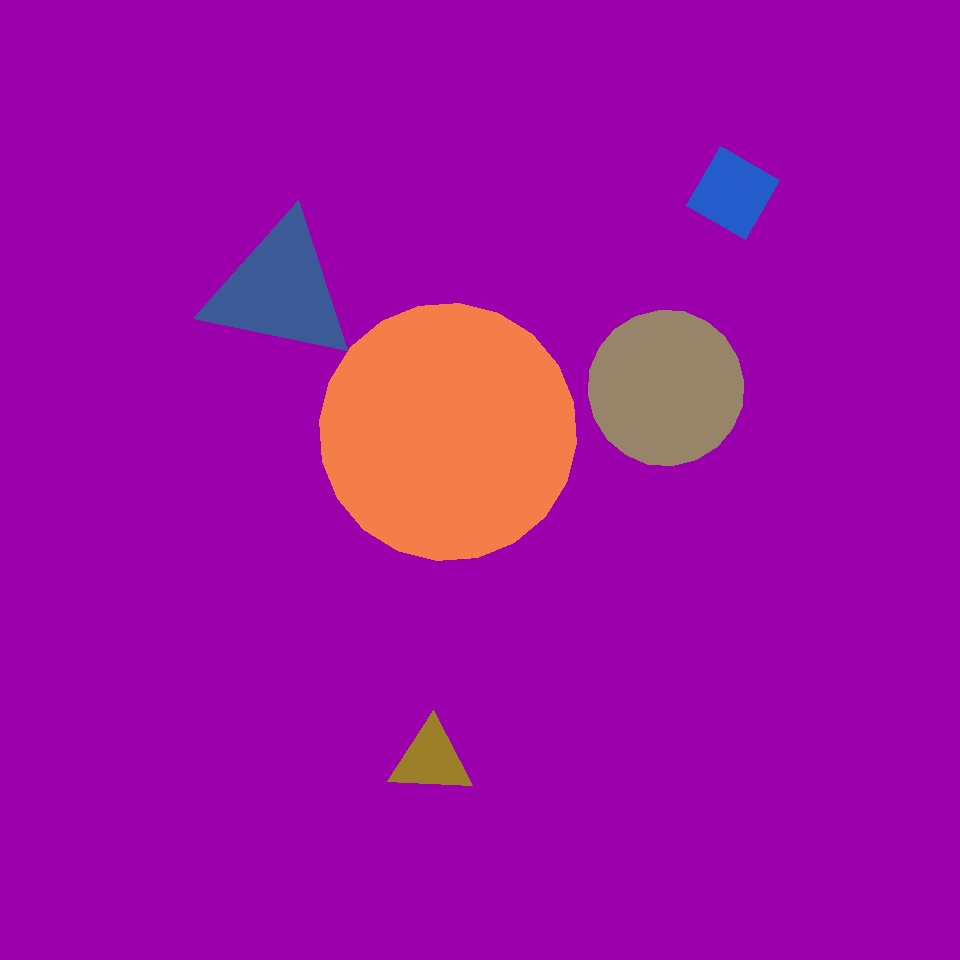circle: (203, 215, 357, 365), (389, 722, 474, 796)
square: (686, 146, 780, 240)
triangle: (320, 304, 576, 560), (588, 310, 744, 466)
